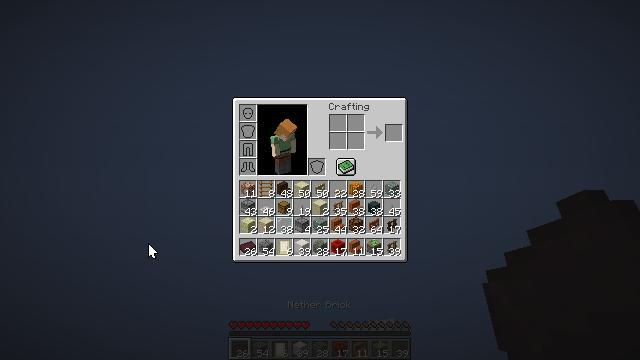cursor: (148, 243, 158, 259)
